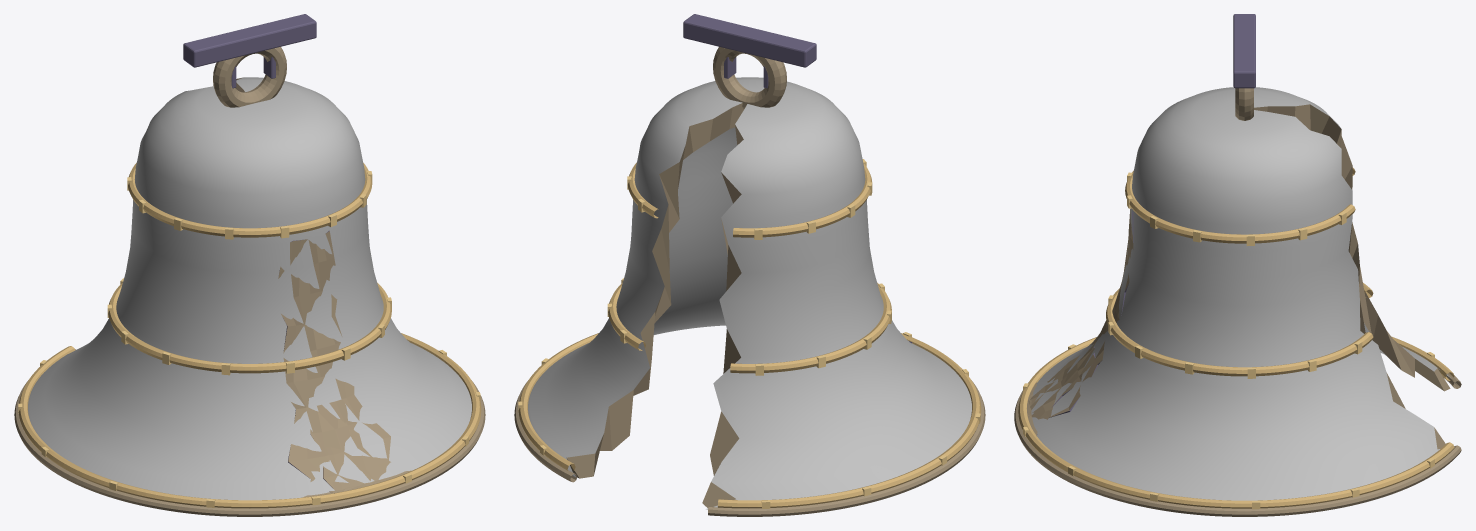
Rendered from Bell.fbx.
The picture shows the model from 3 angles, left to right: view 1: azimuth 30°, elevation 25°; view 2: azimuth 150°, elevation 25°; view 3: azimuth 270°, elevation 25°; orthographic projection. The views are drawn at different scales.
Visible parts, largest first — view 1: Bell_Body, Bell_Parts, Bell_Shard, Bell_Shard2; view 2: Bell_Body, Bell_Parts; view 3: Bell_Body, Bell_Parts, Bell_Shard, Bell_Shard2.
Part boxes in pixels (x1,y1,x2,y2): Bell_Body: [28, 77, 471, 500]; Bell_Parts: [14, 14, 485, 516]; Bell_Shard: [278, 230, 411, 497]; Bell_Shard2: [310, 399, 376, 493]; Bell_Body: [528, 77, 971, 509]; Bell_Parts: [514, 14, 985, 516]; Bell_Body: [1031, 87, 1455, 500]; Bell_Parts: [1014, 14, 1461, 516]; Bell_Shard: [1028, 209, 1133, 435]; Bell_Shard2: [1027, 347, 1095, 416].
Bounding box in the file's own units: 11.26 × 10.23 × 10.93.
